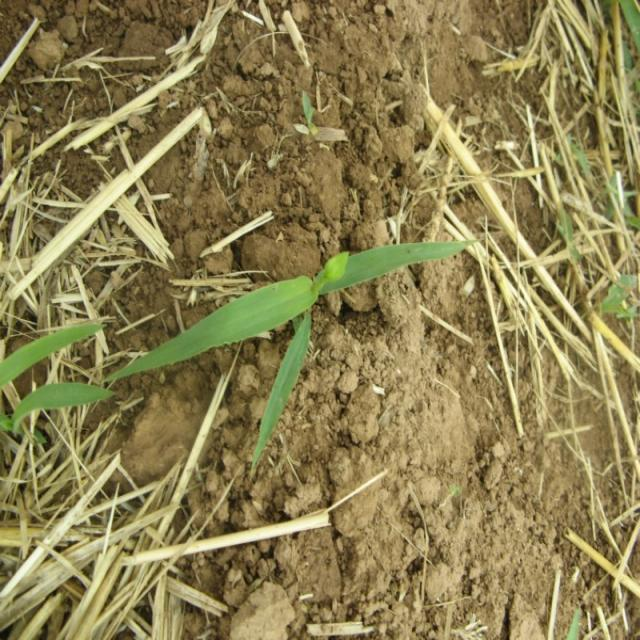bg: (110, 238, 484, 466)
